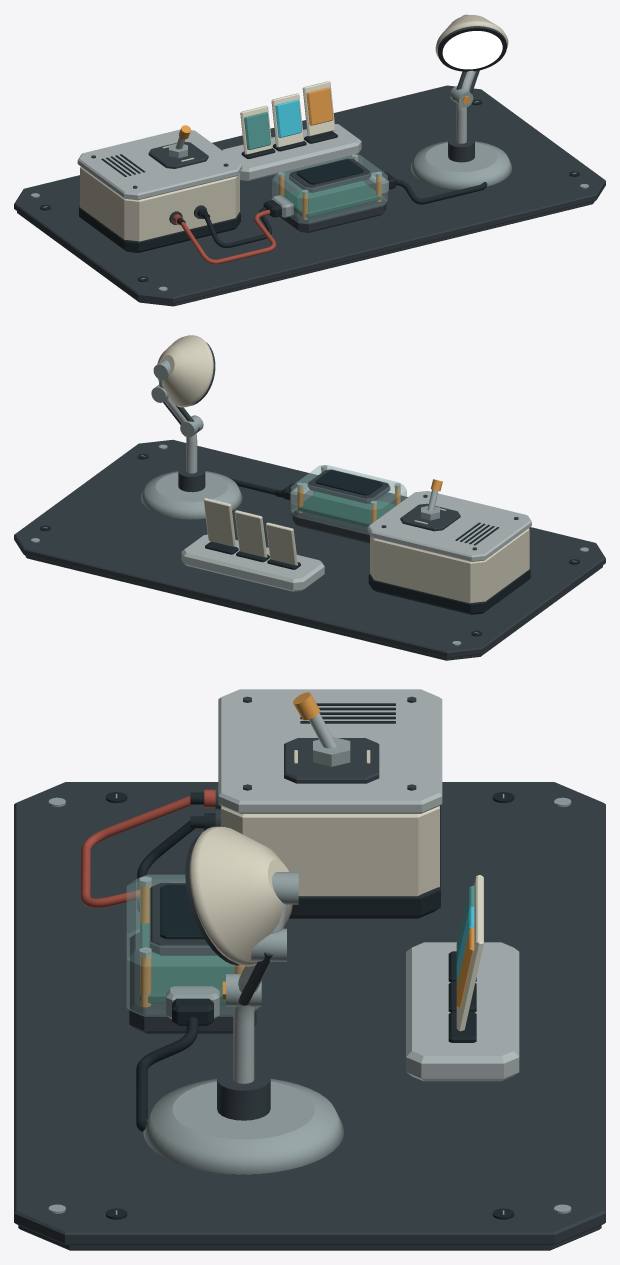
The model's file is p0_desk_kit_lamp_meter.glb.
3 renders of one model, top to bottom at view 1: azimuth 30°, elevation 25°; view 2: azimuth 150°, elevation 25°; view 3: azimuth 270°, elevation 25°, orthographic. The views are drawn at different scales.
Visible parts, largest first — view 1: Antistatic base, Enclosure, Angled magnetic rack, Transparent enclosure, Articulated stand, Low voltage LED head, Blank OLED, Supply to inline meter, Two-position toggle, Meter to lamp; view 2: Antistatic base, Enclosure, Angled magnetic rack, Articulated stand, Transparent enclosure, Low voltage LED head, Blank OLED, Two-position toggle; view 3: Antistatic base, Enclosure, Articulated stand, Angled magnetic rack, Transparent enclosure, Low voltage LED head, Two-position toggle, Blank OLED, Supply to inline meter, Meter to lamp, Output jacks, Captive fasteners.
Part boxes in pixels (box(x1,y1,x2,y2)): Antistatic base: box(14, 85, 605, 306); Enclosure: box(77, 129, 242, 252); Angled magnetic rack: box(222, 81, 361, 180); Transparent enclosure: box(263, 154, 396, 232); Articulated stand: box(411, 14, 512, 189); Low voltage LED head: box(435, 15, 508, 71); Blank OLED: box(289, 158, 371, 192); Supply to inline meter: box(181, 207, 276, 264); Two-position toggle: box(148, 125, 208, 168); Meter to lamp: box(396, 179, 487, 204); Antistatic base: box(14, 439, 605, 660); Enclosure: box(367, 491, 531, 614); Angled magnetic rack: box(181, 498, 324, 591); Articulated stand: box(141, 359, 242, 519); Transparent enclosure: box(282, 465, 406, 543); Low voltage LED head: box(157, 335, 215, 407); Blank OLED: box(307, 469, 390, 503); Two-position toggle: box(400, 479, 460, 531); Antistatic base: box(14, 782, 605, 1250); Enclosure: box(218, 689, 442, 918); Articulated stand: box(143, 872, 344, 1174); Angled magnetic rack: box(406, 875, 519, 1081); Transparent enclosure: box(126, 874, 258, 1033); Low voltage LED head: box(185, 826, 292, 966); Two-position toggle: box(284, 692, 379, 783); Blank OLED: box(149, 883, 217, 955); Supply to inline meter: box(81, 795, 194, 912); Meter to lamp: box(136, 1017, 198, 1131); Output jacks: box(190, 785, 220, 830); Captive fasteners: box(105, 792, 514, 1219).
Bounding box in the file's own units: 0.42 × 0.1423 × 0.2325.
